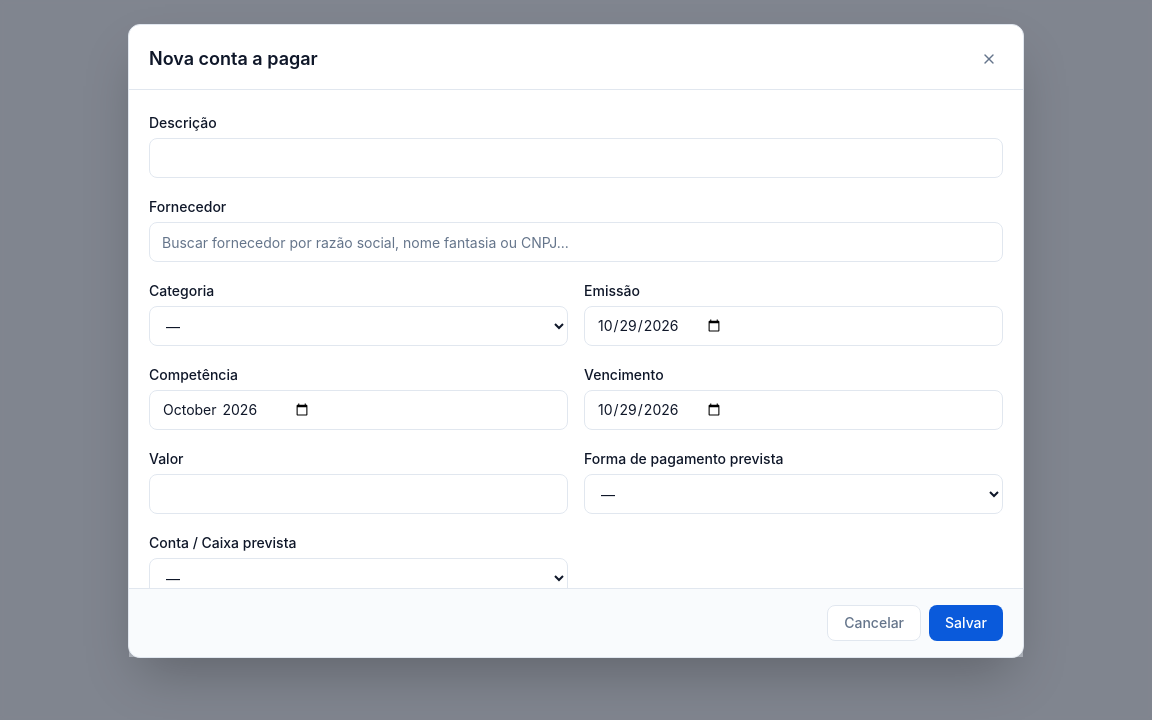
it: ContaPagarDespesaModal — busca fornecedor › exige fornecedor na nova conta a pagar
Click the button "Salvar" at (966, 623), box [929,605,1003,641]
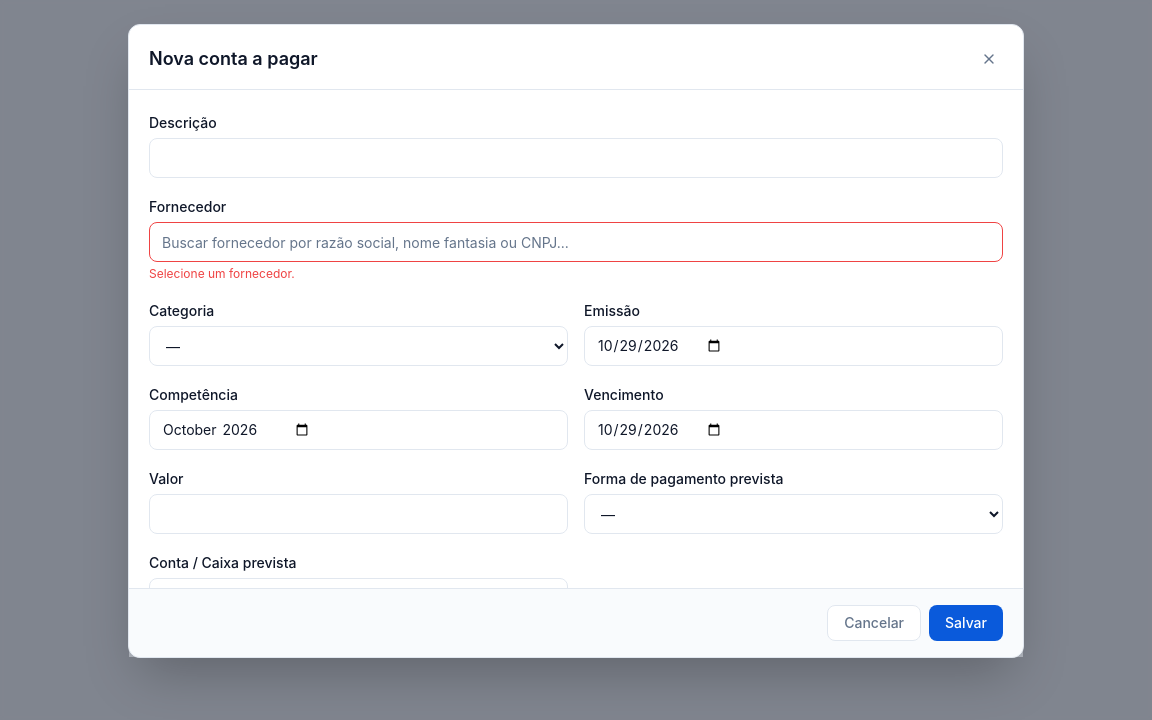
expect the text "Selecione um fornecedor." is shown: met, box [149,266,295,281]
